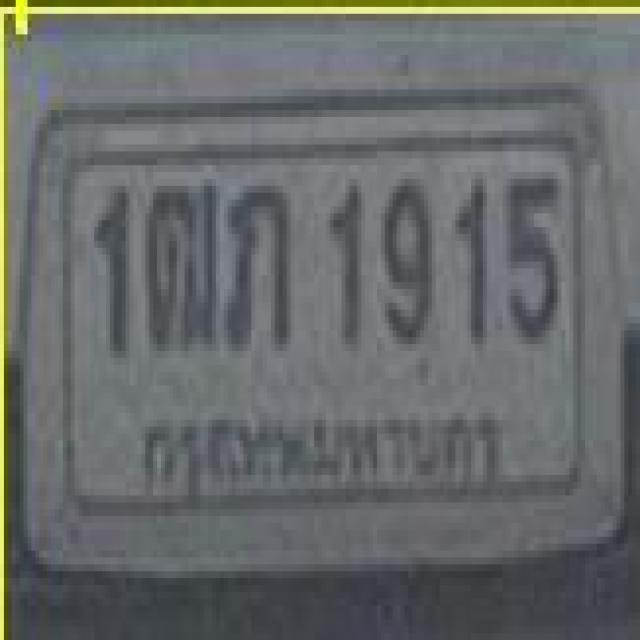license_plate: (27, 101, 630, 558)
